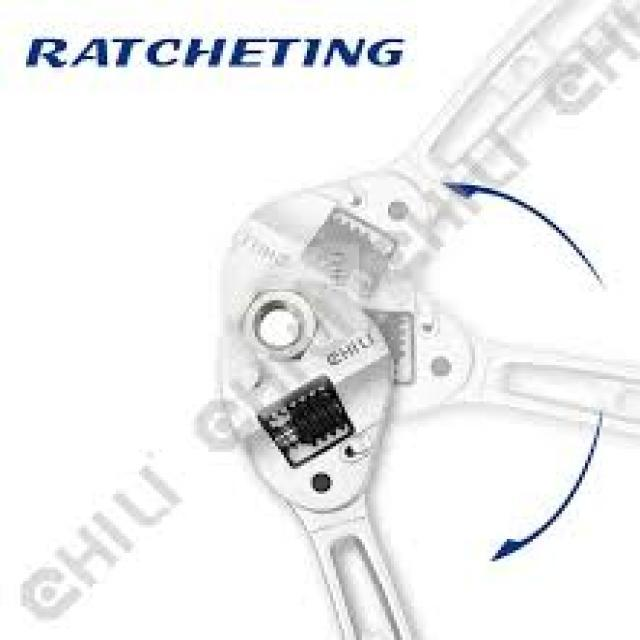wrench: (206, 278, 448, 640)
